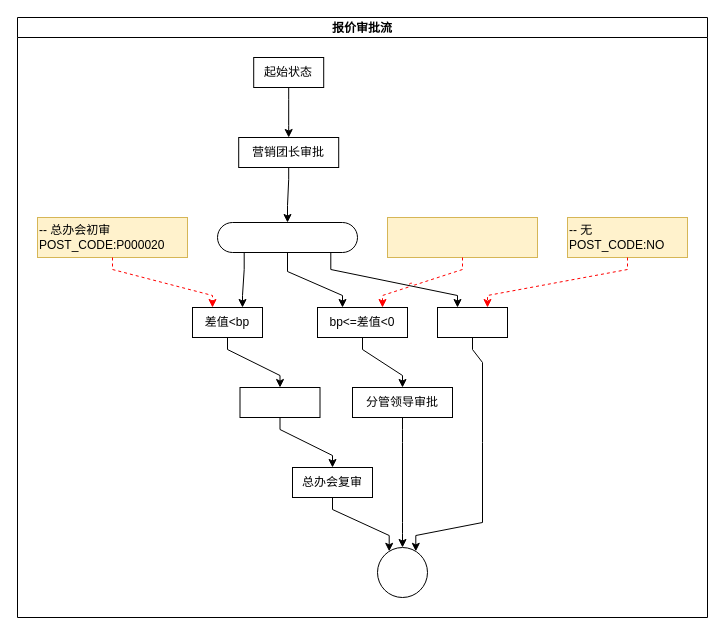
The diagram is 725 pixels wide and 635 high, and some of its shapes have lost their labels. Here are the shapes that lost their labels. From the top down, the box of each, then its label:
(216, 222, 358, 252): 判断服务费的差价与bp
(386, 216, 538, 258): -- 分管领导 POST_CODE:P000021
(436, 306, 508, 338): 差值>=0
(239, 386, 320, 418): 总办会初审
(376, 546, 428, 598): 结束
